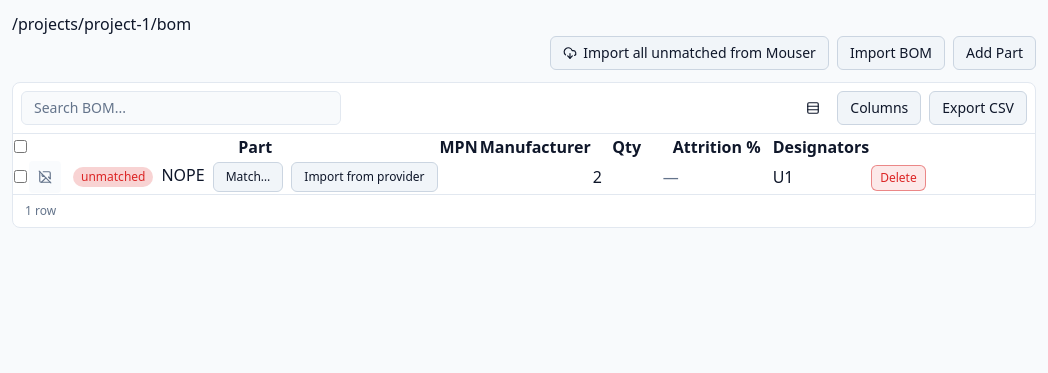
Test case: ProjectBOM › failures panel renders MPN + reason for each failure
The image size is (1048, 373).
Click the button "Import all unmatched from Mouser". click: (690, 53)
box: [550,36,829,70]
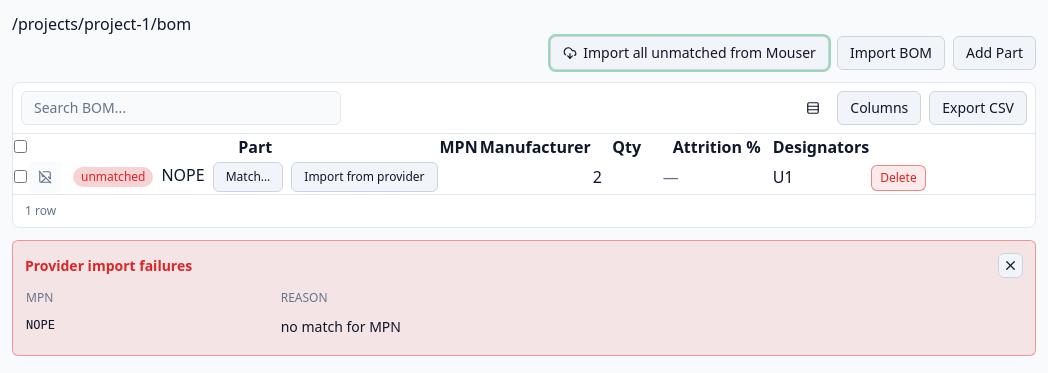
Expected: the text "NOPE" is shown, [162,164,205,186]
Now the heading "Provider import failures" is shown, box [25,256,192,276]
Now the text "no match for MPN" is shown, box [280,310,1023,343]
